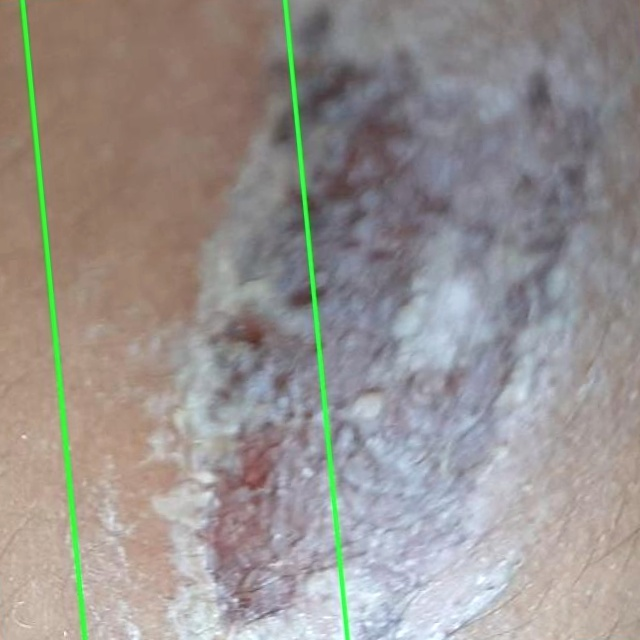Atopic Dermatitis: (22, 0, 639, 639), (0, 0, 347, 639)
